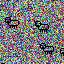sheep: (4, 16, 20, 29), (40, 42, 55, 55), (35, 21, 49, 33), (60, 48, 64, 56)
